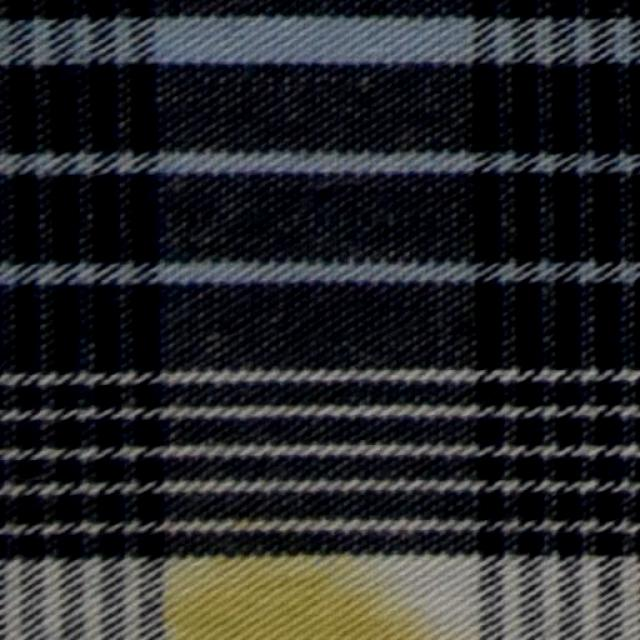Stain: (162, 532, 436, 639)
